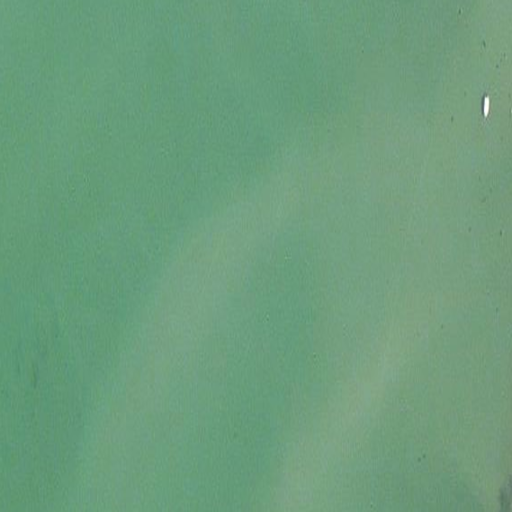ship: (480, 94, 492, 120)
